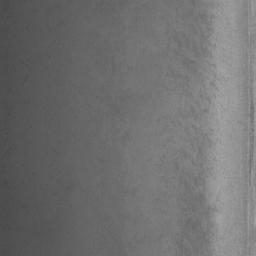Silk spot: (180, 125, 218, 256), (183, 11, 215, 58), (182, 58, 201, 77), (175, 232, 190, 256), (188, 106, 209, 120), (166, 66, 182, 83), (200, 94, 216, 104), (173, 31, 182, 48), (210, 74, 219, 90)
